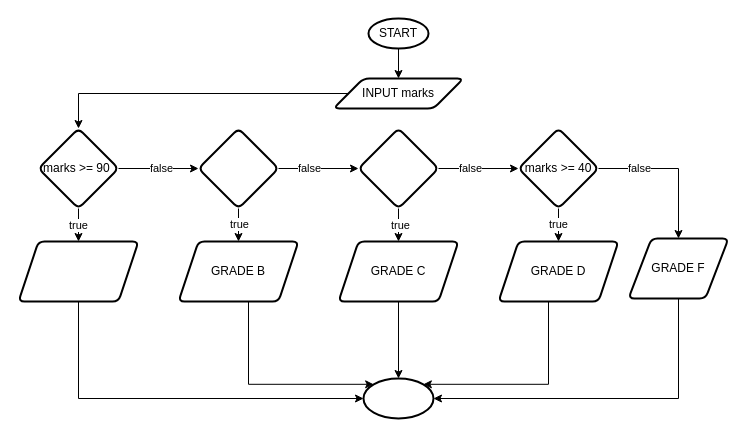
Image size: 746x436. Some labels were removed from this diagram. Here are the shapes that lost their labels. From the top down, the box of each, then its label:
(197, 127, 279, 209): marks >= 80
(357, 127, 439, 209): marks >= 70
(17, 240, 139, 302): GRADE A
(362, 377, 434, 419): END
